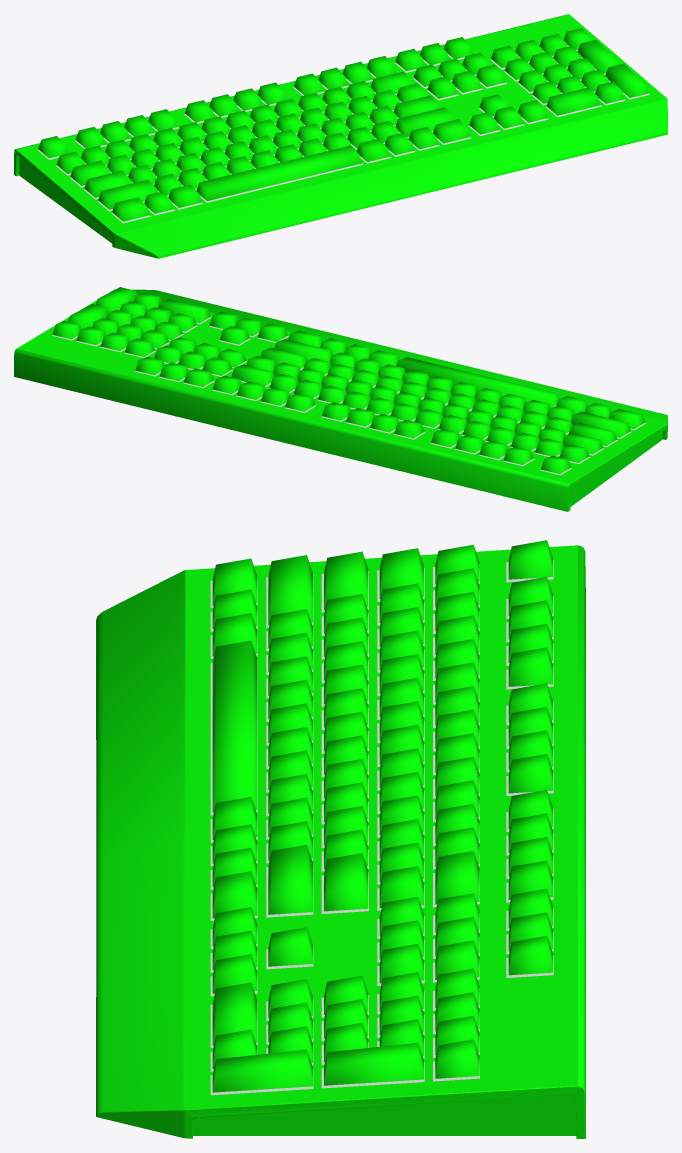
The model's file is Keyboard.fbx.
The picture shows the model from 3 angles, top to bottom: view 1: azimuth 30°, elevation 25°; view 2: azimuth 150°, elevation 25°; view 3: azimuth 270°, elevation 25°; orthographic projection. The views are drawn at different scales.
Parts seen in each view (by area): view 1: Keyboard, Lights; view 2: Keyboard, Lights; view 3: Keyboard, Lights.
Boxes of the visible parts, box(x1,y1,x2,y2) form: Keyboard: box(14, 14, 667, 258); Lights: box(38, 44, 649, 223); Keyboard: box(14, 287, 667, 511); Lights: box(52, 317, 645, 475); Keyboard: box(96, 540, 585, 1138); Lights: box(210, 559, 553, 1095).
Size of the model in its own units: 44.22 by 2.88 by 16.93.
